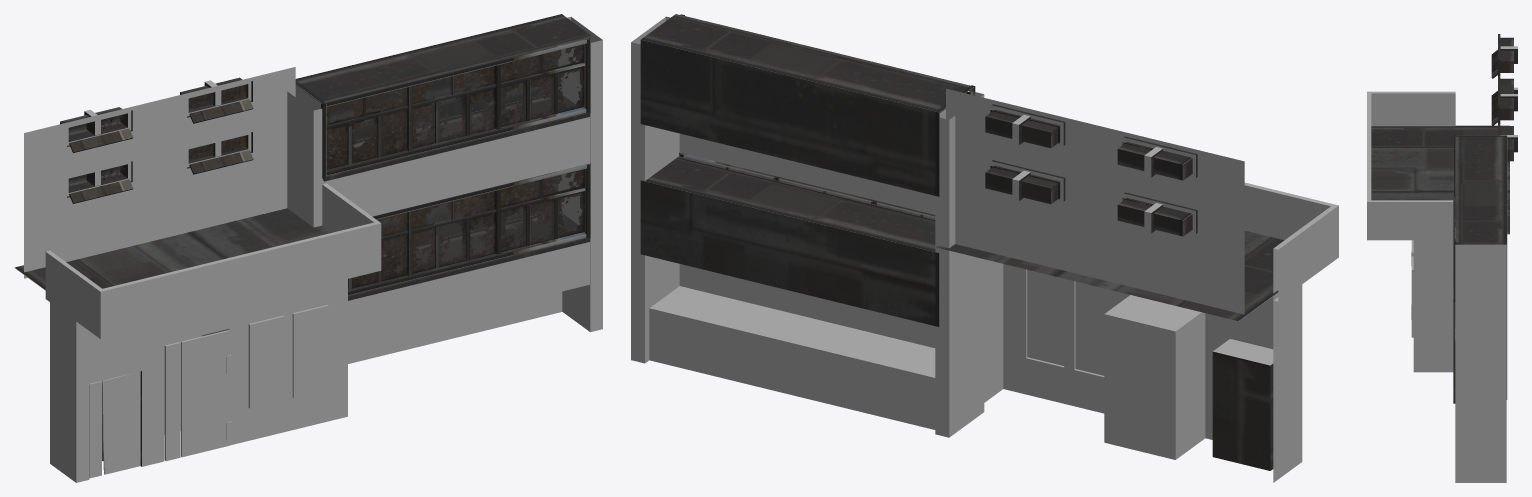
The model's file is bz_panel_01.fbx.
The picture shows the model from 3 angles, left to right: view 1: azimuth 30°, elevation 25°; view 2: azimuth 150°, elevation 25°; view 3: azimuth 270°, elevation 25°; orthographic projection. The views are drawn at different scales.
Visible parts, largest first — view 1: bz_panel_01, bz_panel_01.004, bz_panel_01.002, bz_panel_01.001, bz_panel_01door_01, bz_panel_01door_02, bz_panel_01door_03; view 2: bz_panel_01; view 3: bz_panel_01, bz_panel_01.002, bz_panel_01.001.
Boxes of the visible parts, bbox=[...] form: bz_panel_01: bbox=[14, 14, 602, 482]; bz_panel_01.004: bbox=[321, 44, 584, 288]; bz_panel_01.002: bbox=[321, 38, 590, 181]; bz_panel_01.001: bbox=[348, 163, 590, 300]; bz_panel_01door_01: bbox=[181, 330, 231, 457]; bz_panel_01door_02: bbox=[102, 371, 140, 474]; bz_panel_01door_03: bbox=[89, 381, 101, 478]; bz_panel_01: bbox=[631, 14, 1338, 482]; bz_panel_01: bbox=[1367, 34, 1517, 482]; bz_panel_01.002: bbox=[1453, 135, 1462, 302]; bz_panel_01.001: bbox=[1453, 302, 1455, 403].
Size of the model in its own units: 12.3 by 6.57 by 3.57.
